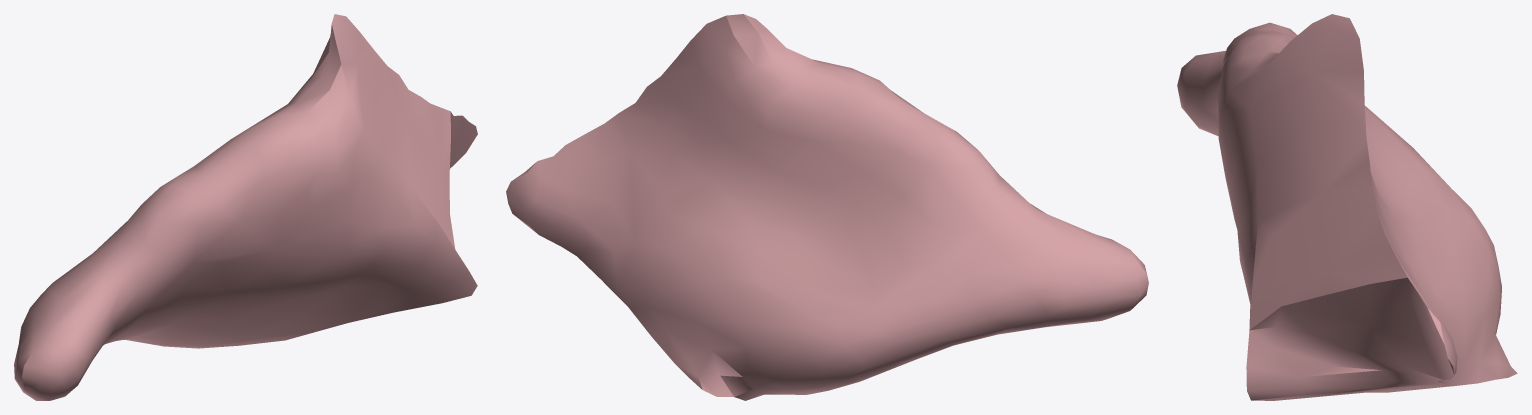
File: fma13258_mm534.glb
3 renders of one model, left to right at view 1: azimuth 30°, elevation 25°; view 2: azimuth 150°, elevation 25°; view 3: azimuth 270°, elevation 25°, orthographic. The views are drawn at different scales.
Visible parts, largest first — view 1: FMA13258_MM534; view 2: FMA13258_MM534; view 3: FMA13258_MM534.
Part boxes in pixels (x1=…): FMA13258_MM534: x1=14, y1=14, x2=477, y2=400; FMA13258_MM534: x1=506, y1=14, x2=1148, y2=400; FMA13258_MM534: x1=1177, y1=14, x2=1517, y2=400.
Bounding box in the file's own units: 0.0252 × 0.0147 × 0.0112.
